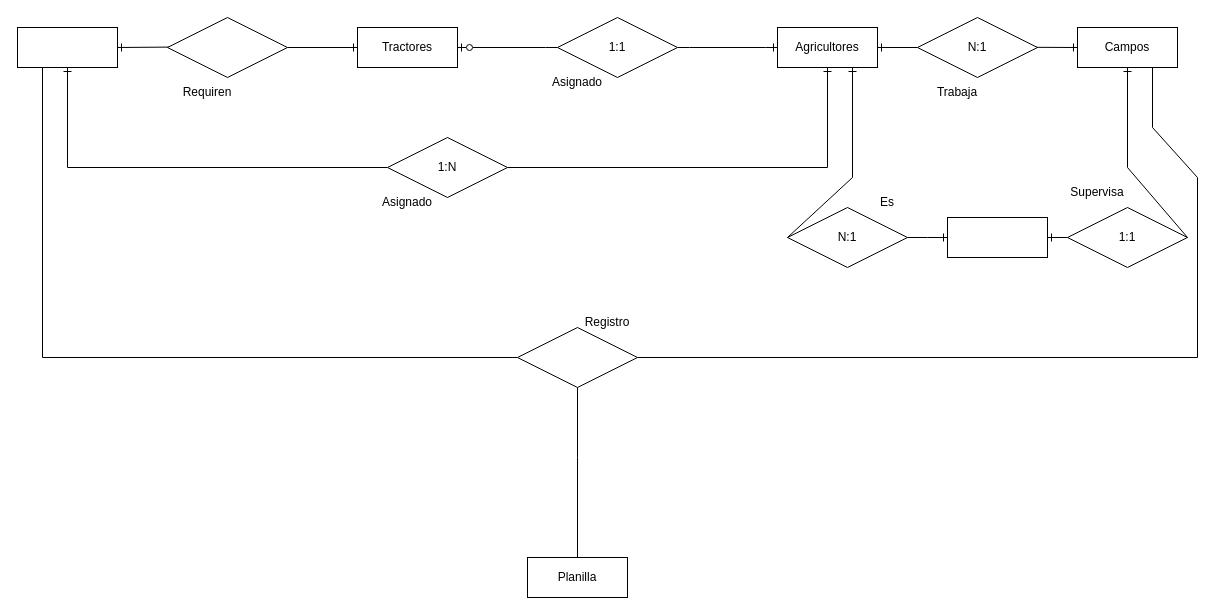
Some shapes in this 1216 by 615 pixel diagram are drawn without their labels. Here are the shapes that lost their labels. From the top down, the centre of each, then its label:
At (67,47): "Trabajos".
At (227,47): "1:M".
At (997,237): "Supervisor".
At (577,357): "N:1:M".
